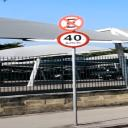speed_limit_40: (54, 31, 91, 49)
